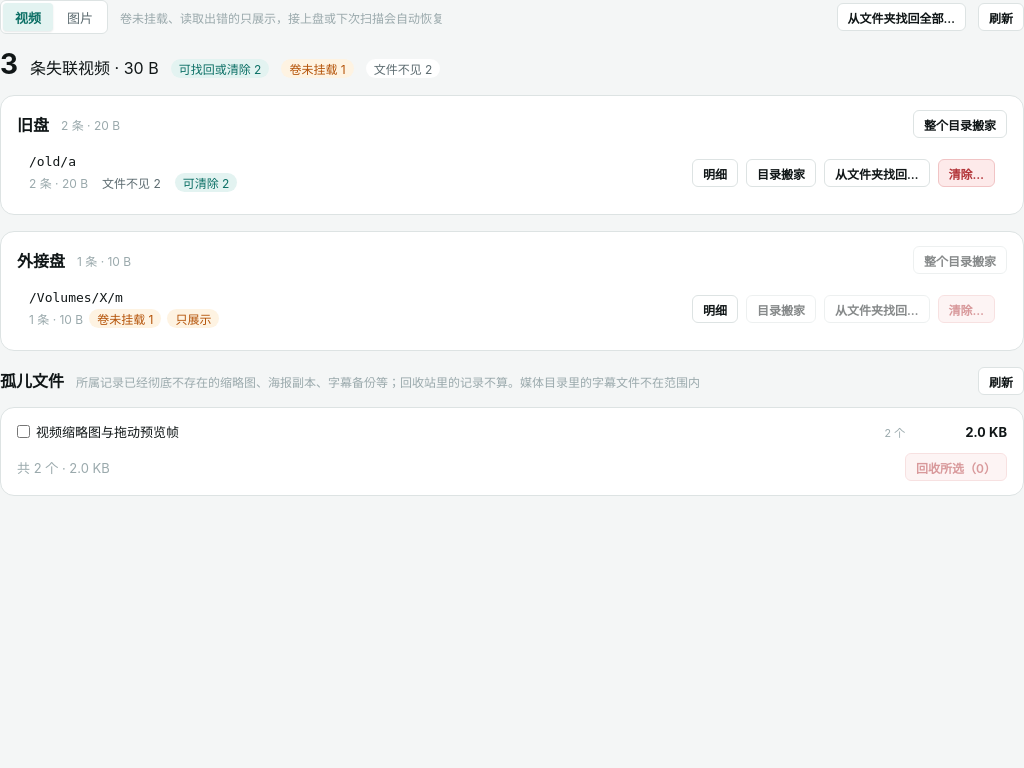
Test: 失联数据面板（D-LD-*） › 目录搬家：选新位置 → 预览默认勾选可靠配对，不可执行的不能勾；执行后通知宿主并重读报告
Click the button with test id "lost-dir-move" in the row of "可清除 2" at (781, 173), box [746,159,816,187]
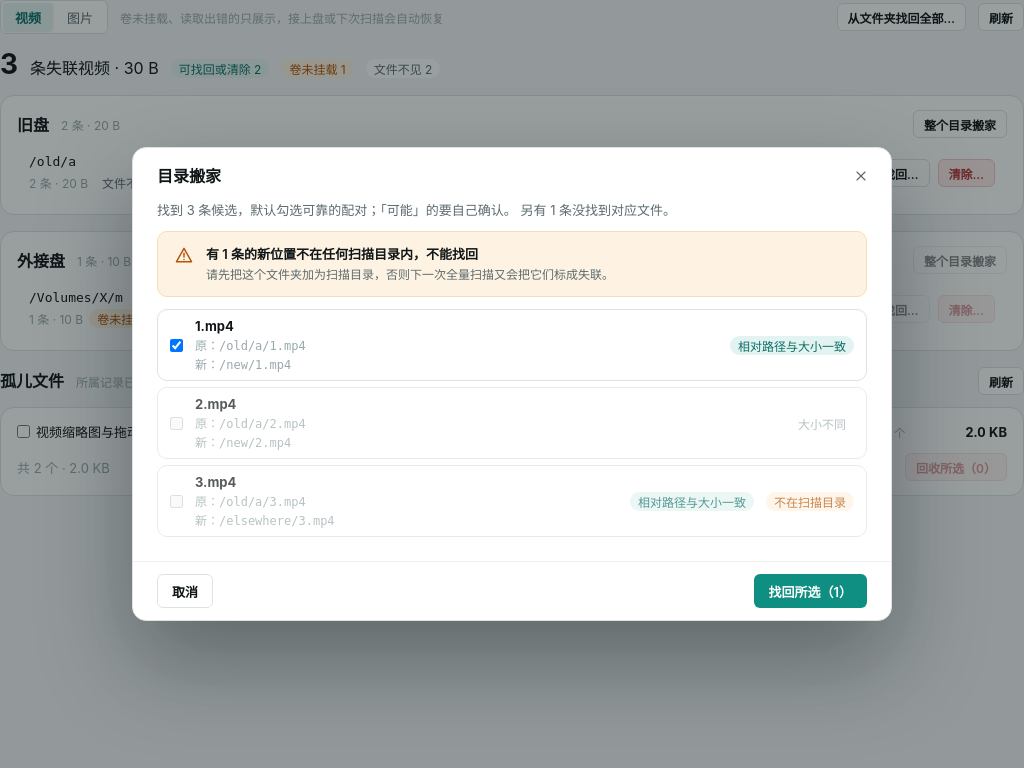
Now the 2nd checkbox with test id "lost-relink-toggle" is disabled, box [170,417,183,430]
Now the message with test id "lost-relink-outside-hint" shows "先把这个文件夹加为扫描目录", box [206,267,614,282]
Click the button with test id "lost-relink-apply" at (810, 591), box [754,574,867,608]
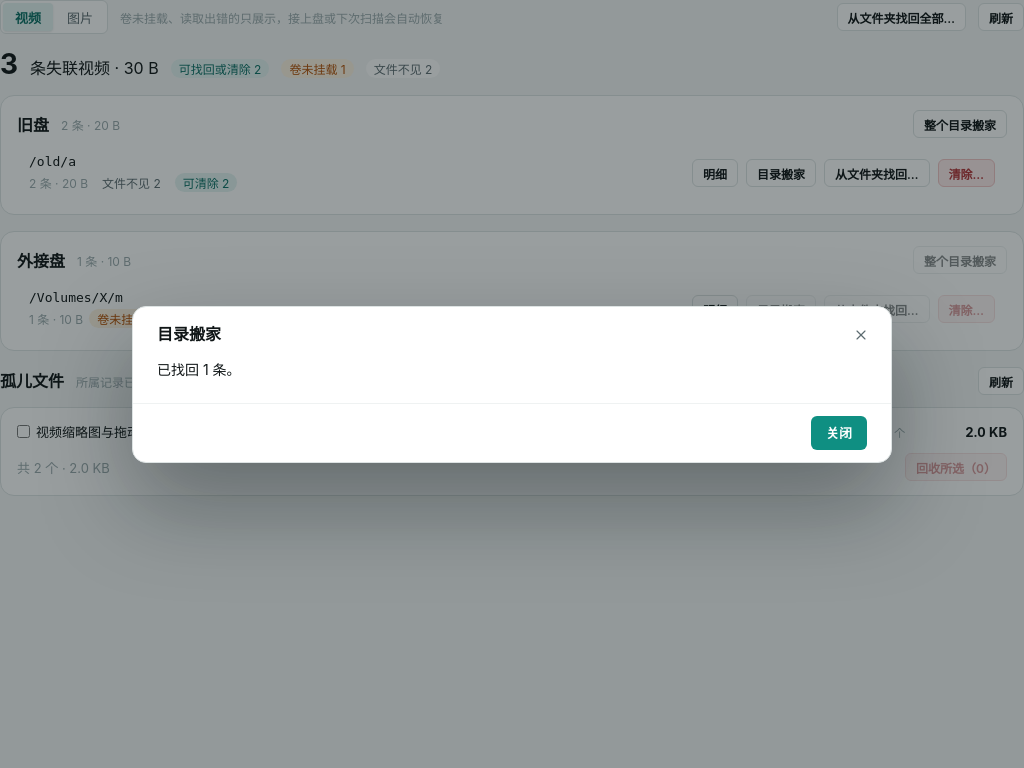
Now the element with test id "lost-relink-result" shows "已找回 1 条", box [157,360,227,378]
